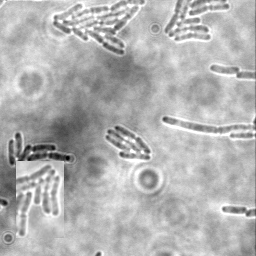Dividing: (161, 114, 255, 133), (221, 204, 248, 215)
Microcolony: (51, 1, 147, 56), (16, 161, 64, 238), (162, 1, 231, 44), (8, 130, 72, 167), (106, 124, 153, 160), (208, 63, 240, 74)
